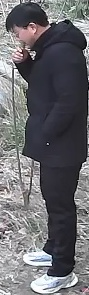smoking: (5, 30, 53, 94)
